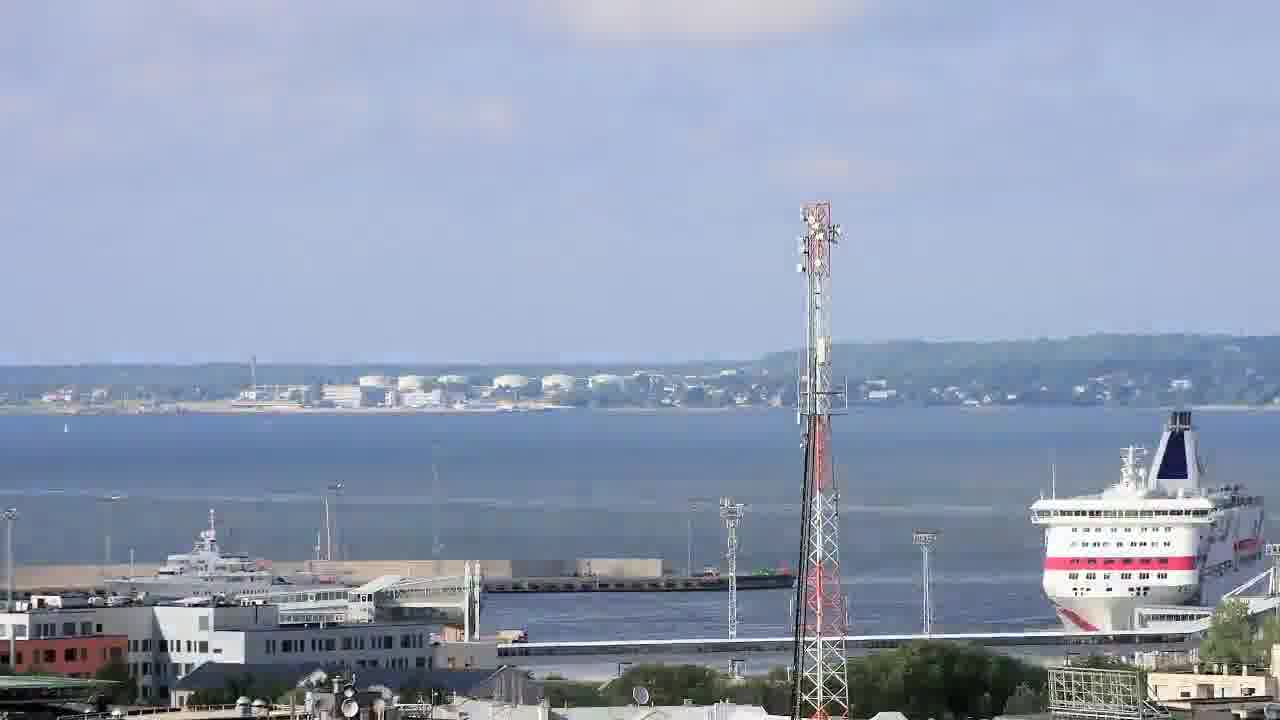type-3: (1002, 398, 1264, 638), (89, 518, 402, 620)
